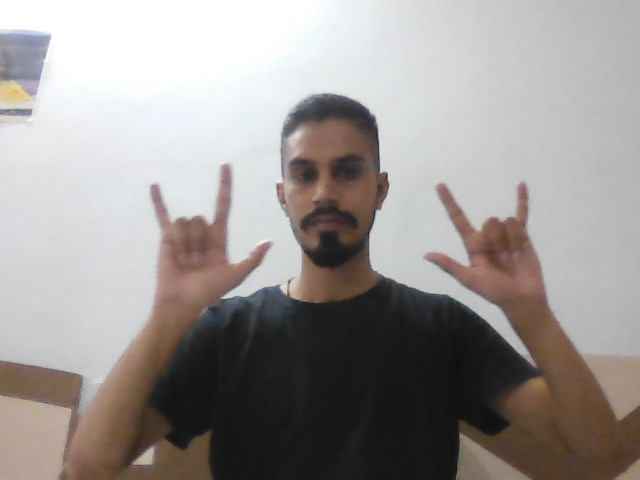ILoveYou: (147, 157, 270, 294)
